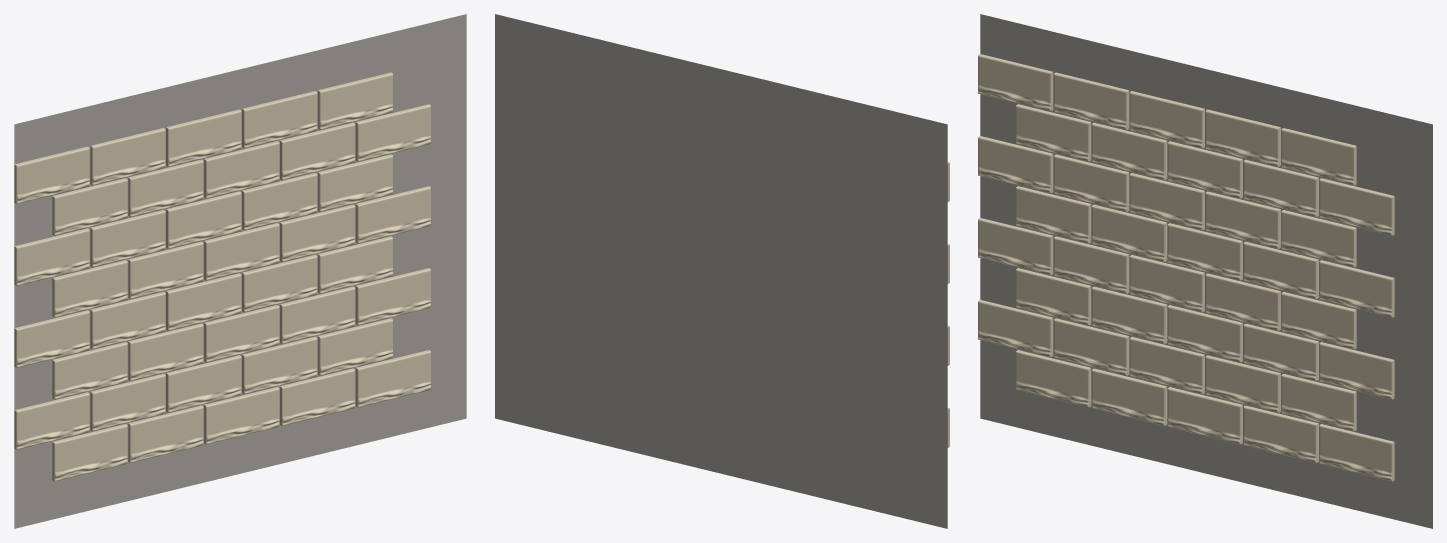
Rendered from terilgan.glb.
3 views of the same model, side by side, from view 1: azimuth 30°, elevation 25°; view 2: azimuth 150°, elevation 25°; view 3: azimuth 330°, elevation 25° (orthographic).
Visible parts, largest first — view 1: Plane, t1_0, t2_0, t3_0, t4_0, t4_1, t5_3, t6_3, t7_3, t0_4, t3_1, t5_2 (+29 smaller); view 2: Plane; view 3: Plane, t7_1, t7_4, t0_1, t2_2, t2_4, t6_1, t6_4, t0_2, t1_0, t3_2, t3_4 (+29 smaller).
Part boxes in pixels (box(x1,y1,x2,y2)): Plane: box(14, 14, 466, 528); t1_0: box(14, 392, 89, 449); t2_0: box(52, 342, 127, 399); t3_0: box(14, 310, 89, 367); t4_0: box(52, 260, 127, 317); t4_1: box(128, 241, 203, 299); t5_3: box(242, 173, 317, 230); t6_3: box(280, 122, 355, 180); t7_3: box(242, 91, 317, 148); t0_4: box(355, 350, 431, 407); t3_1: box(90, 292, 165, 349); t5_2: box(166, 191, 241, 248); Plane: box(495, 14, 947, 528); Plane: box(980, 14, 1432, 528); t7_1: box(1054, 72, 1129, 129); t7_4: box(1281, 128, 1356, 185); t0_1: box(1092, 368, 1167, 425); t2_2: box(1167, 305, 1242, 362); t2_4: box(1319, 342, 1394, 399); t6_1: box(1092, 122, 1167, 180); t6_4: box(1319, 178, 1394, 235); t0_2: box(1167, 387, 1242, 444); t1_0: box(978, 299, 1053, 357); t3_2: box(1129, 255, 1204, 312); t3_4: box(1281, 292, 1356, 349).
Bounding box in the file's own units: 1.85 × 1.58 × 0.0278.
